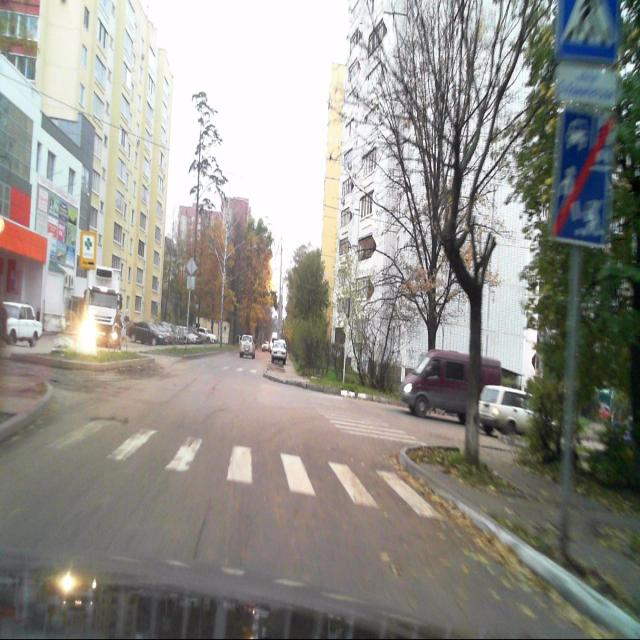road sign: (552, 108, 609, 245)
